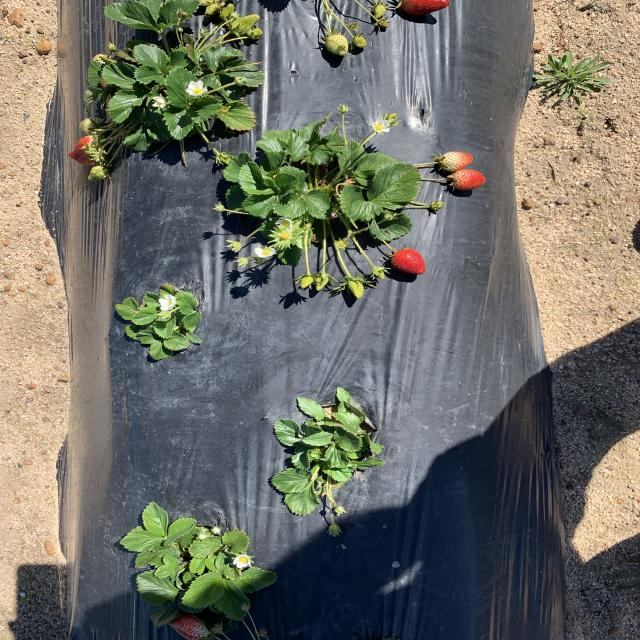unripe: (66, 136, 112, 165), (393, 0, 456, 19), (390, 248, 428, 276), (454, 169, 485, 189)
